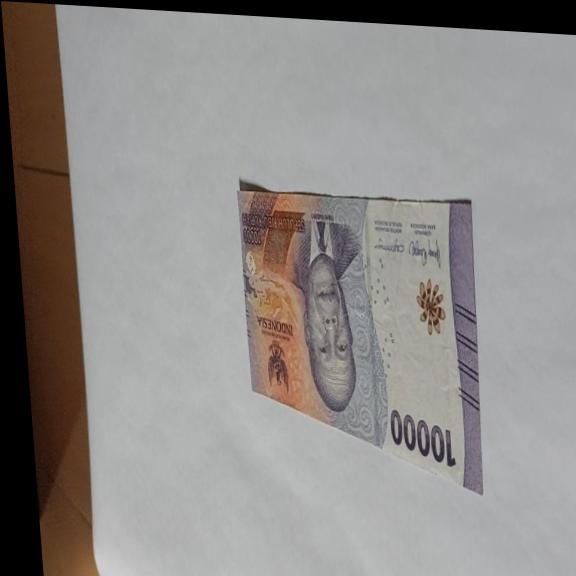Kertas: (233, 182, 494, 498), (388, 407, 457, 470)
